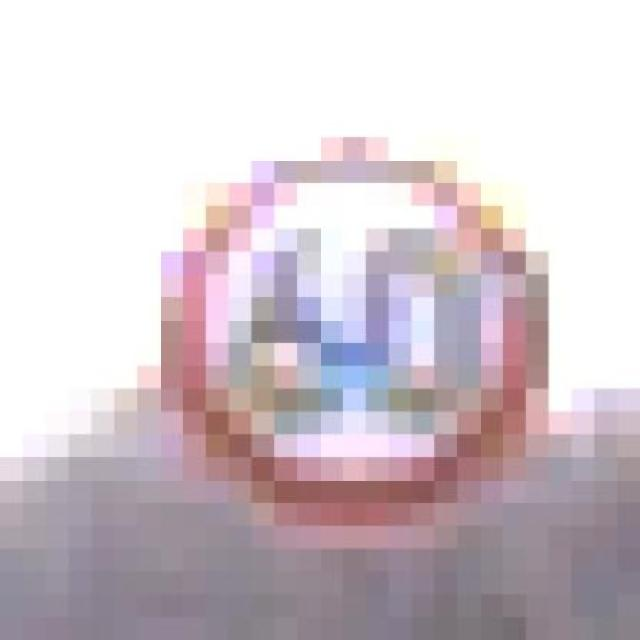forb_speed_over_60: (172, 154, 540, 520)
